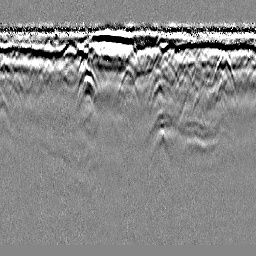cavity: (116, 66, 139, 98)
